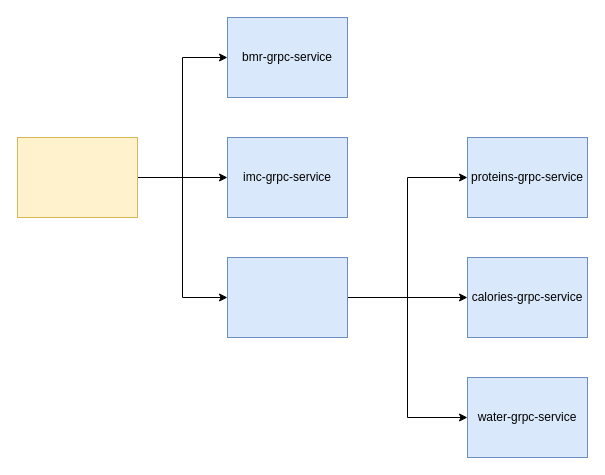
Image size: 605x475. Some labels were removed from this diagram. Here are the shapes that lost their labels. From the top down, the centre of each, then its label:
[77,177]: health-api REST
[287,297]: recommendations-grpc-service
